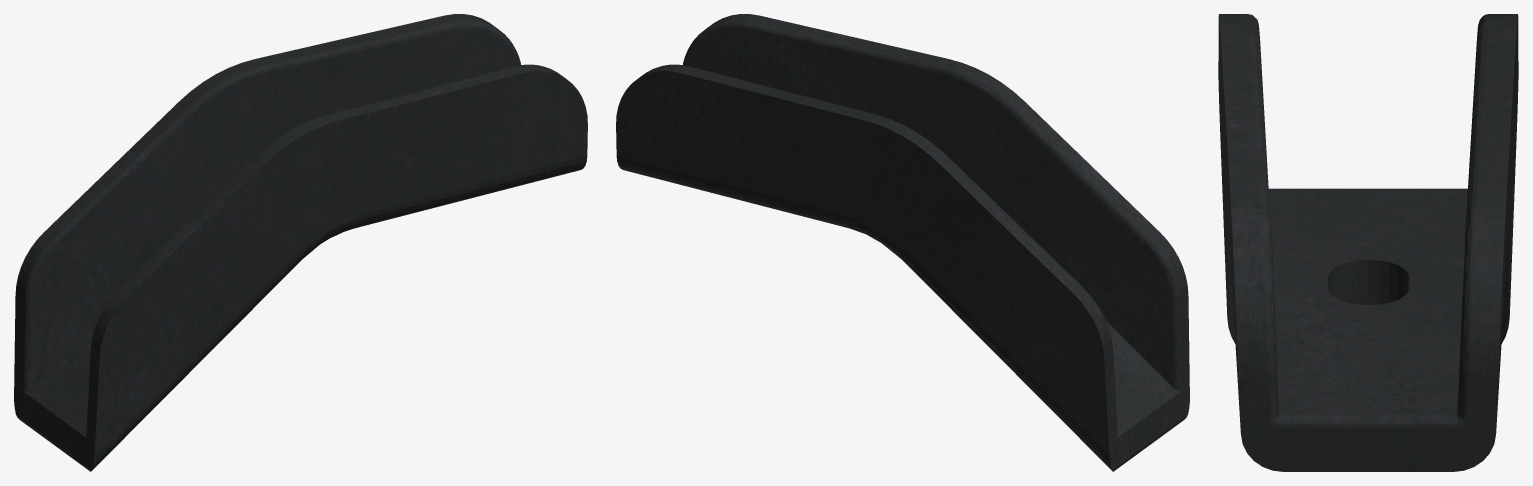
Rendered from Buttstock_Release_Lever.dae.
The picture shows the model from 3 angles, left to right: view 1: azimuth 30°, elevation 25°; view 2: azimuth 150°, elevation 25°; view 3: azimuth 270°, elevation 25°; orthographic projection. The views are drawn at different scales.
Parts seen in each view (by area): view 1: Buttstock_Release_Lever; view 2: Buttstock_Release_Lever; view 3: Buttstock_Release_Lever.
Boxes of the visible parts, left/top/right/bottom form: Buttstock_Release_Lever: left=14, top=14, right=587, bottom=471; Buttstock_Release_Lever: left=616, top=14, right=1189, bottom=471; Buttstock_Release_Lever: left=1218, top=14, right=1518, bottom=471.
Size of the model in its own units: 0.0698 by 0.0208 by 0.0401.
1 material, 1 textured.
